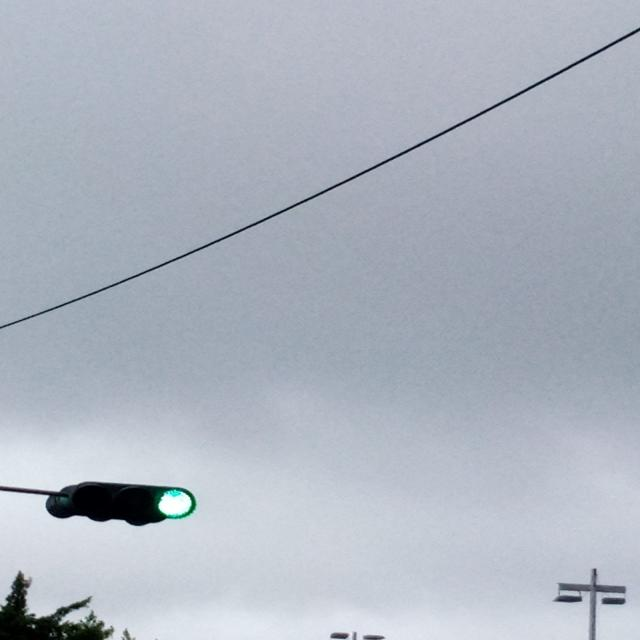green light: (44, 481, 198, 530)
